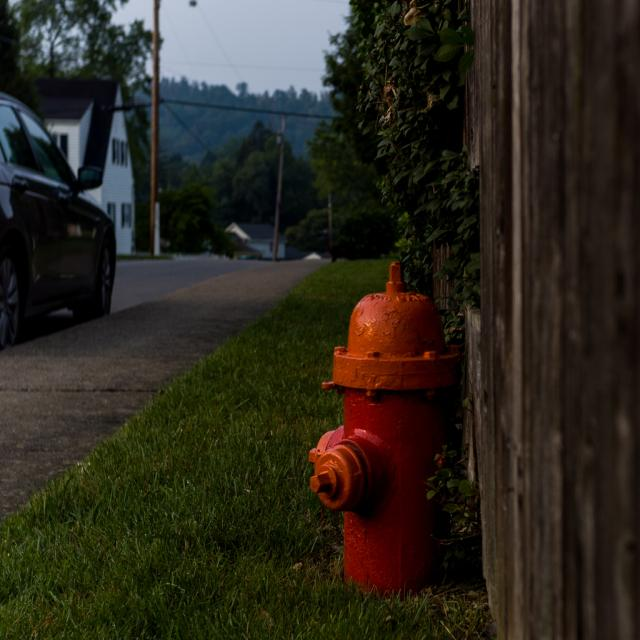fire_hydrant: (306, 262, 462, 594)
